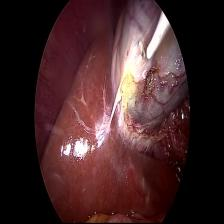Hook: (137, 10, 170, 60)
